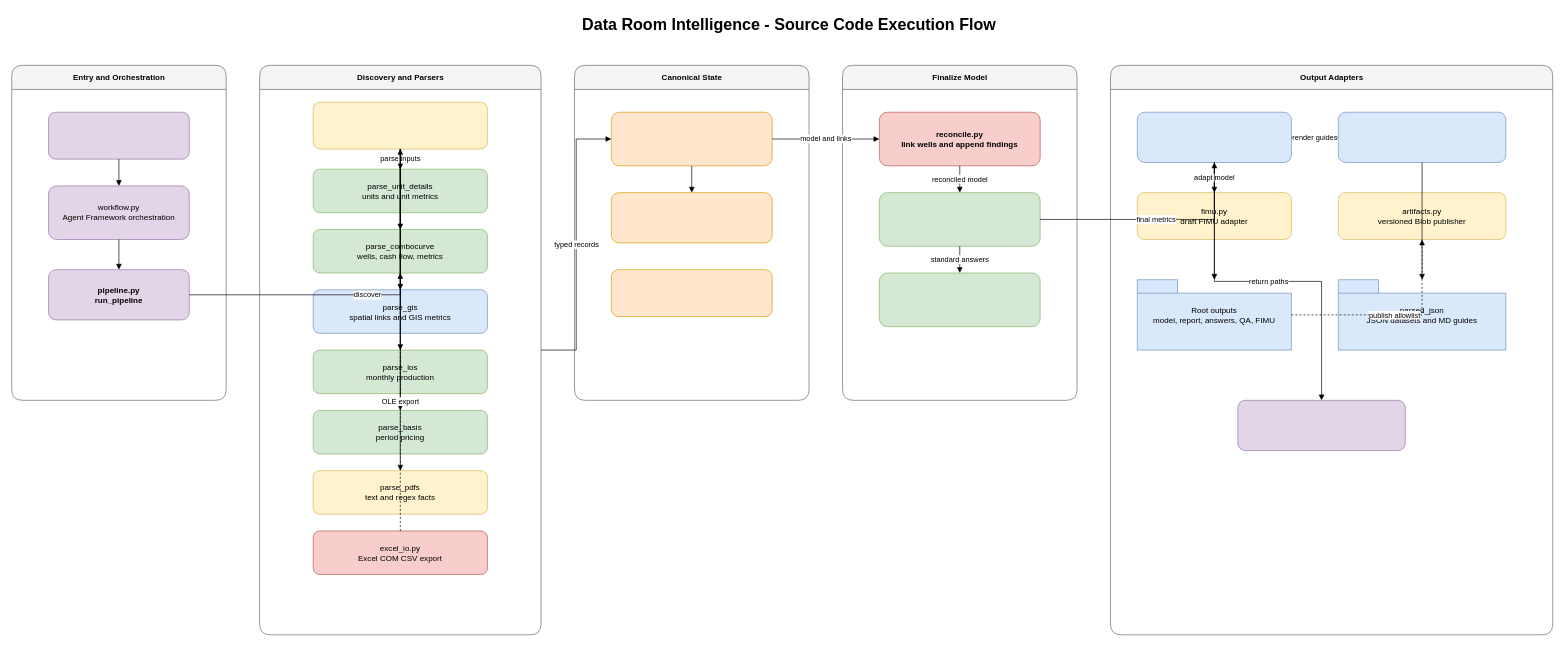
Image size: 1564x647. Some labels were removed from this diagram. The shapes that lost their labels are listed below. From the top down, each one's centre as x and y in pixels, then its label:
the point at 118,135: cli.py build command
the point at 400,125: discovery.py discover files and as-of dates
the point at 691,139: models.py CanonicalModel and typed records
the point at 1214,137: reporting.py write_outputs
the point at 1422,137: parsing_docs.py generated Markdown guides
the point at 691,217: Initial metrics unit + ComboCurve + GIS
the point at 959,219: analytics.py append analytical metrics
the point at 691,293: SourceRef path, locator, as-of
the point at 959,299: standard_answers deterministic business responses
the point at 1321,425: PipelineResult absolute output paths
